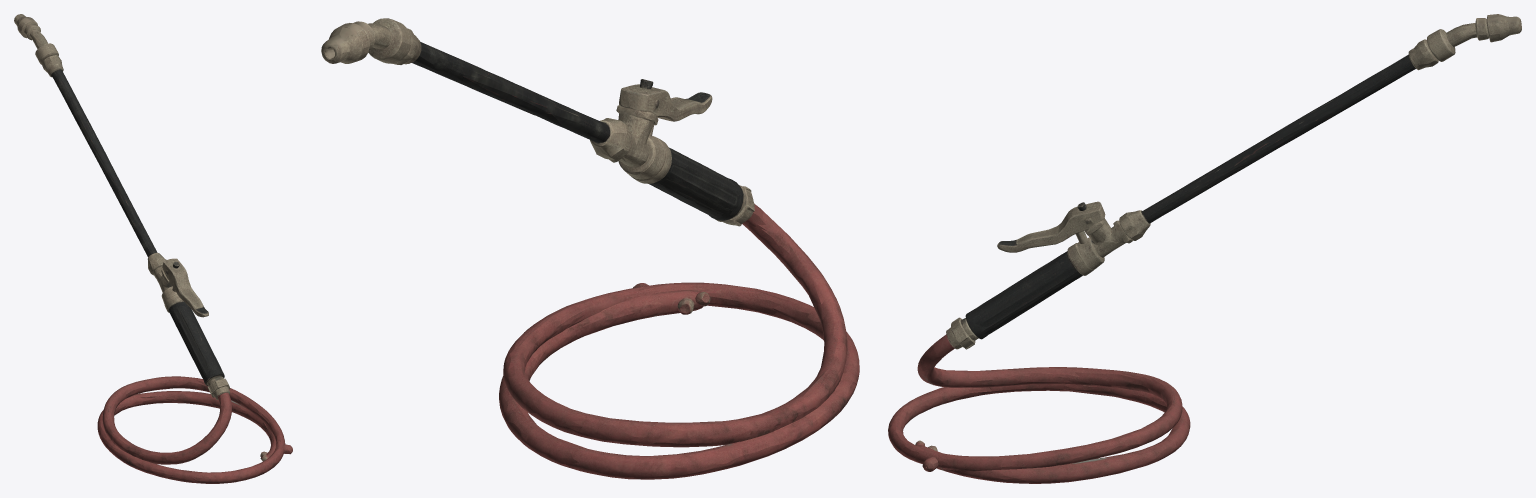
File: lancia_opzione1.gltf
3 renders of one model, left to right at view 1: azimuth 30°, elevation 25°; view 2: azimuth 150°, elevation 25°; view 3: azimuth 270°, elevation 25°, orthographic. The views are drawn at different scales.
Parts seen in each view (by area): view 1: Lancia; view 2: Lancia; view 3: Lancia.
Part boxes in pixels (<box>): Lancia: <box>14,14,292,483</box>; Lancia: <box>321,18,859,479</box>; Lancia: <box>888,14,1521,483</box>.
Bounding box in the file's own units: 0.2942 × 0.5738 × 0.78.
Materials: 1 (1 with a texture image).
